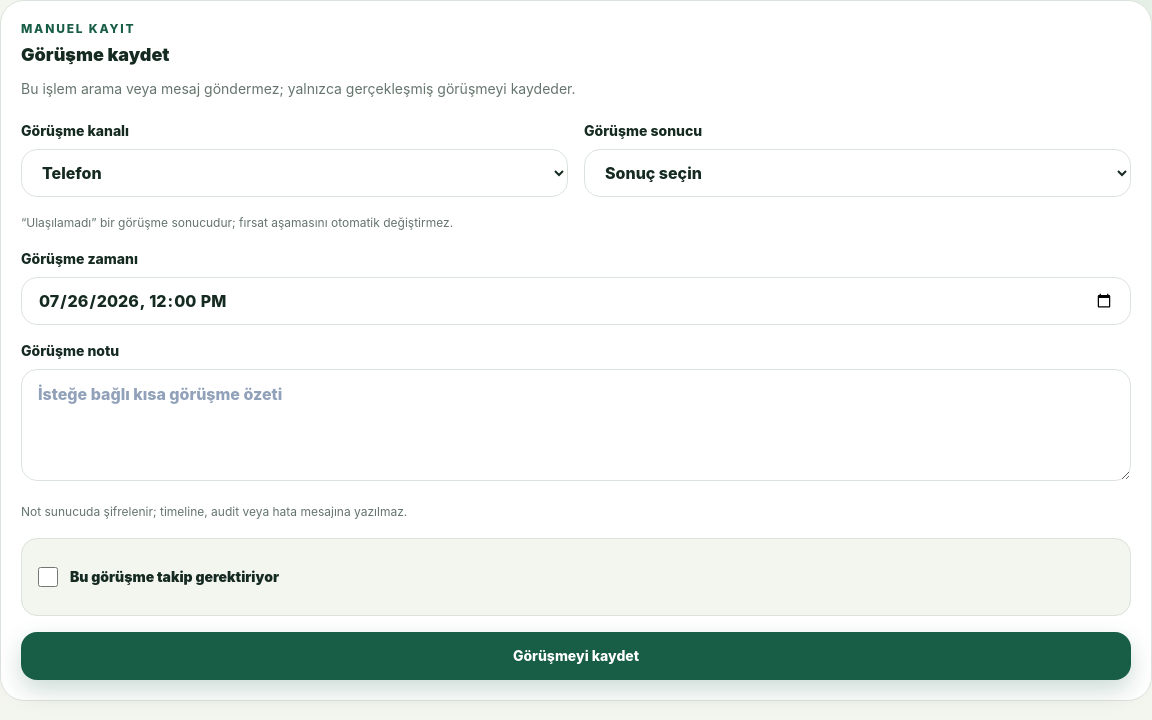
it: ConversationForm › takip seçilince tarih ve amacı koşullu zorunlu alan olarak açar
Click the checkbox labelled "Bu görüşme takip gerektiriyor". click: (48,577)
box: [38,567,58,587]
(page scrolled)
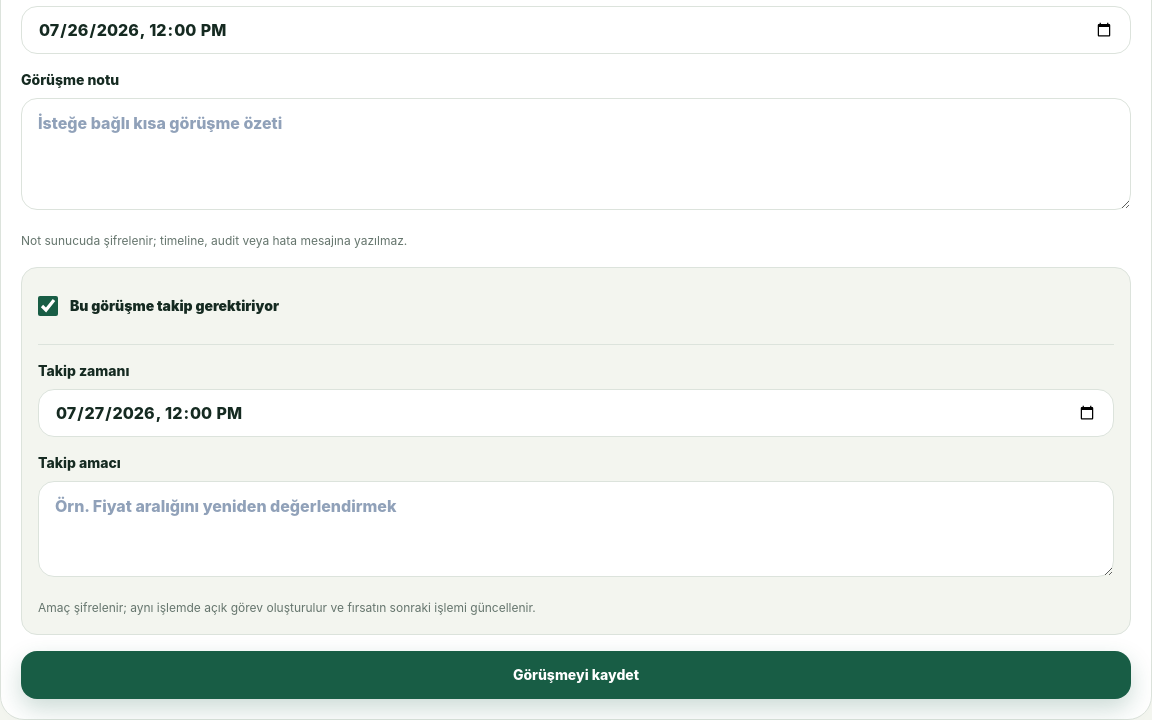
Check: the field labelled "Takip zamanı" holds "2026-07-27T12:00", box [38,389,1114,437]
Check: the text "aynı işlemde açık görev oluşturulur" is shown, box [38,600,536,615]
